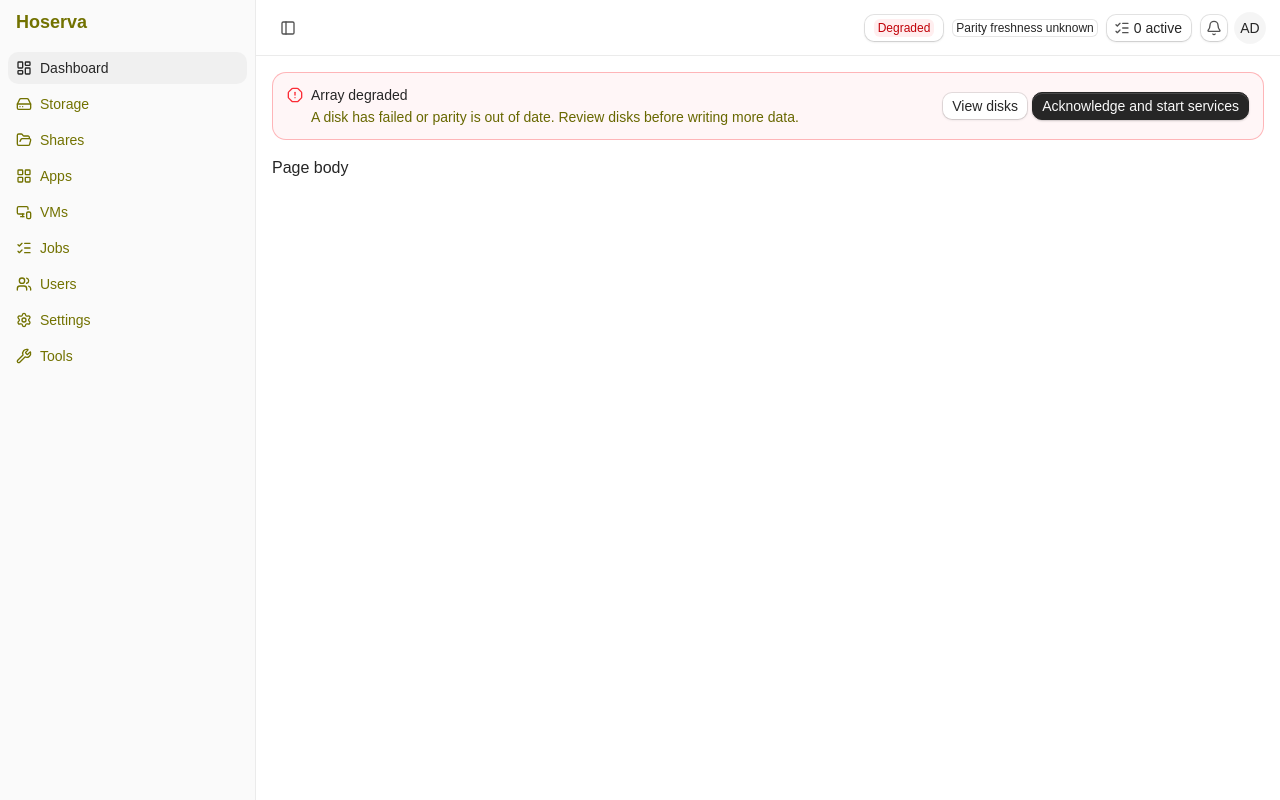
it: PersistentBanners degraded acknowledgement › ignores a cancel attempt while the request is still pending
Expected: the text "Array degraded" is shown, [311,87,408,103]
Click the button "Acknowledge and start services": (1141, 106) [1032,92,1249,120]
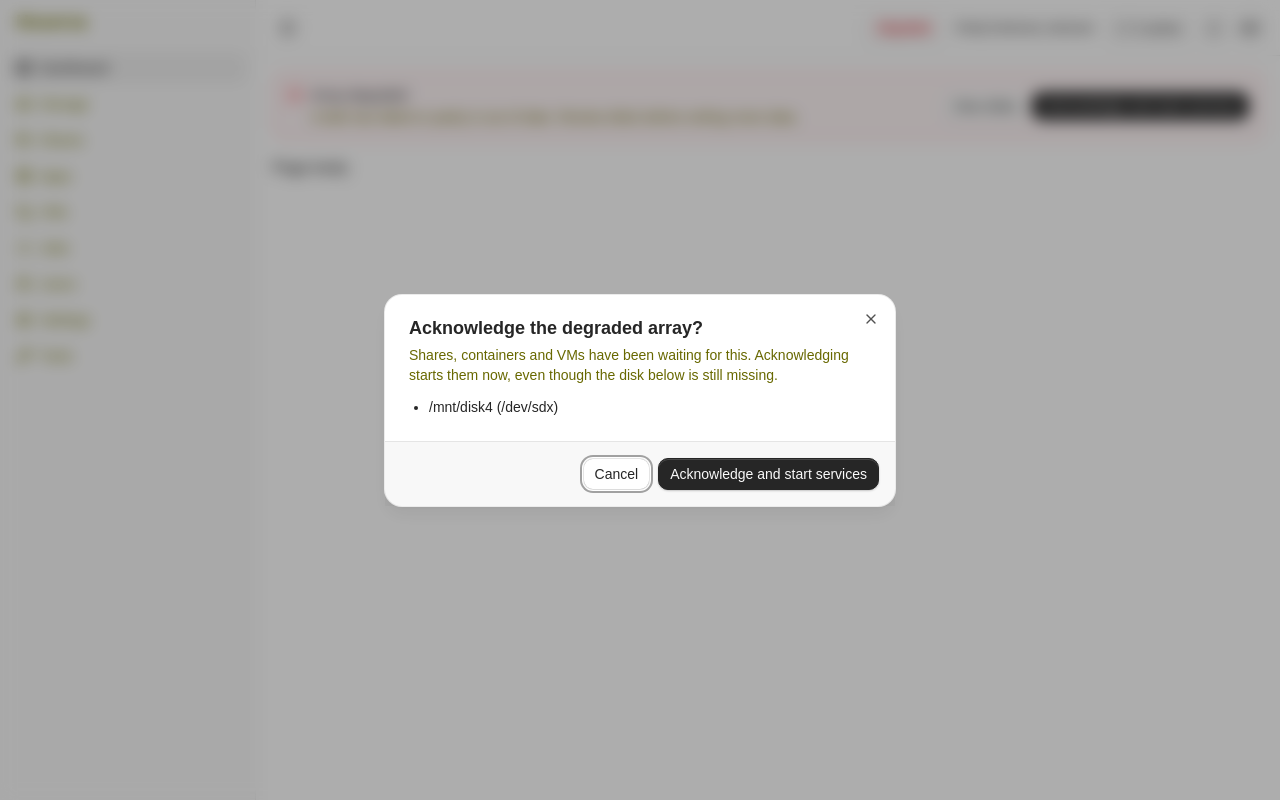
Result: the heading "Acknowledge the degraded array?" is shown at [409,318,703,338]
Click the button "Acknowledge and start services": (769, 474) [658,458,879,490]
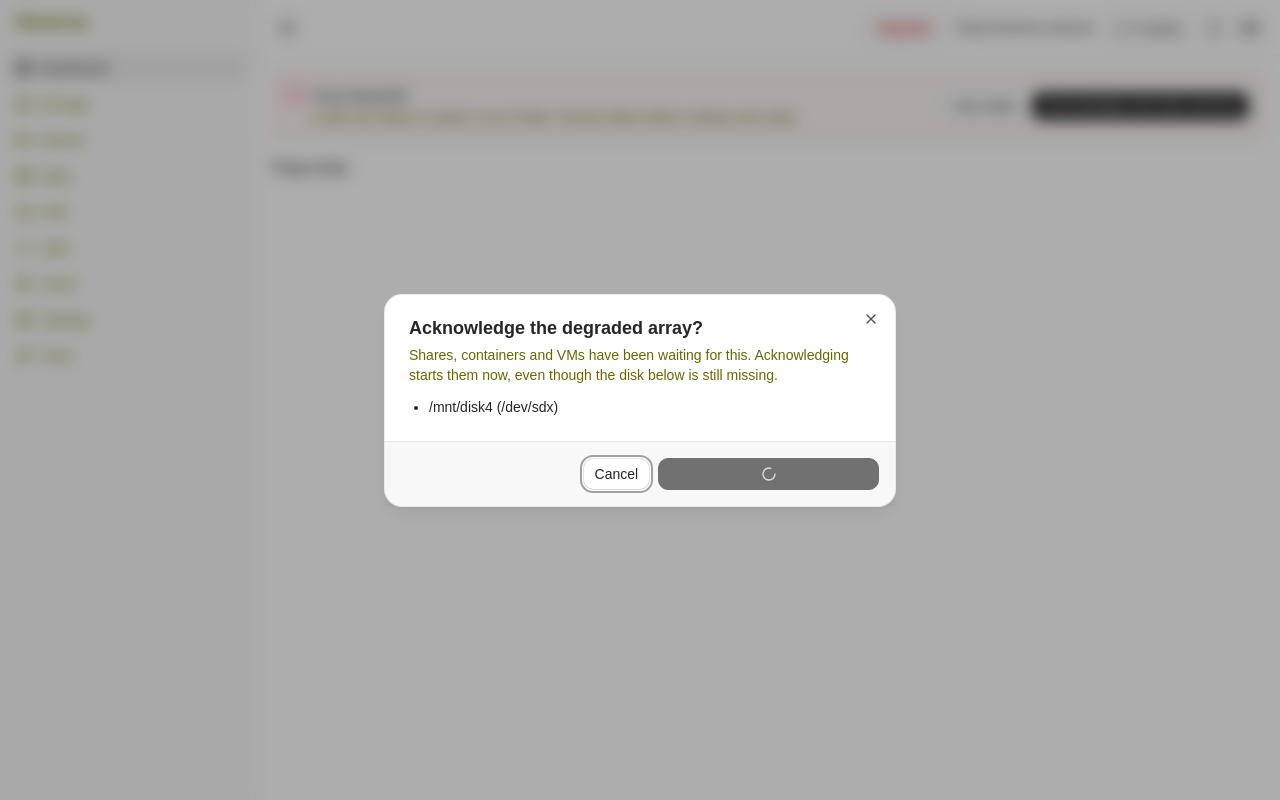
Click the button "Cancel": (616, 474) [582,458,650,490]
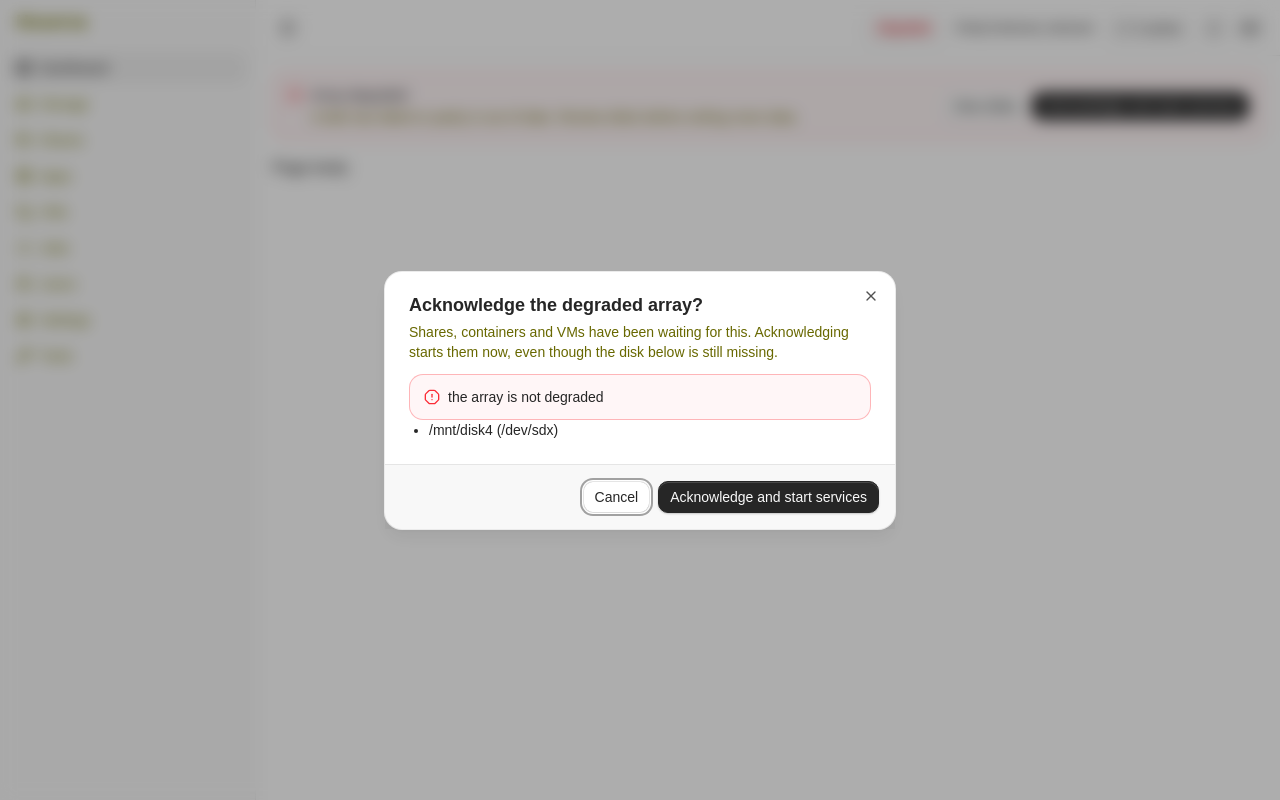
Result: the heading "Acknowledge the degraded array?" is shown at [409,294,703,314]
Result: the text "the array is not degraded" is shown at [448,388,604,404]
